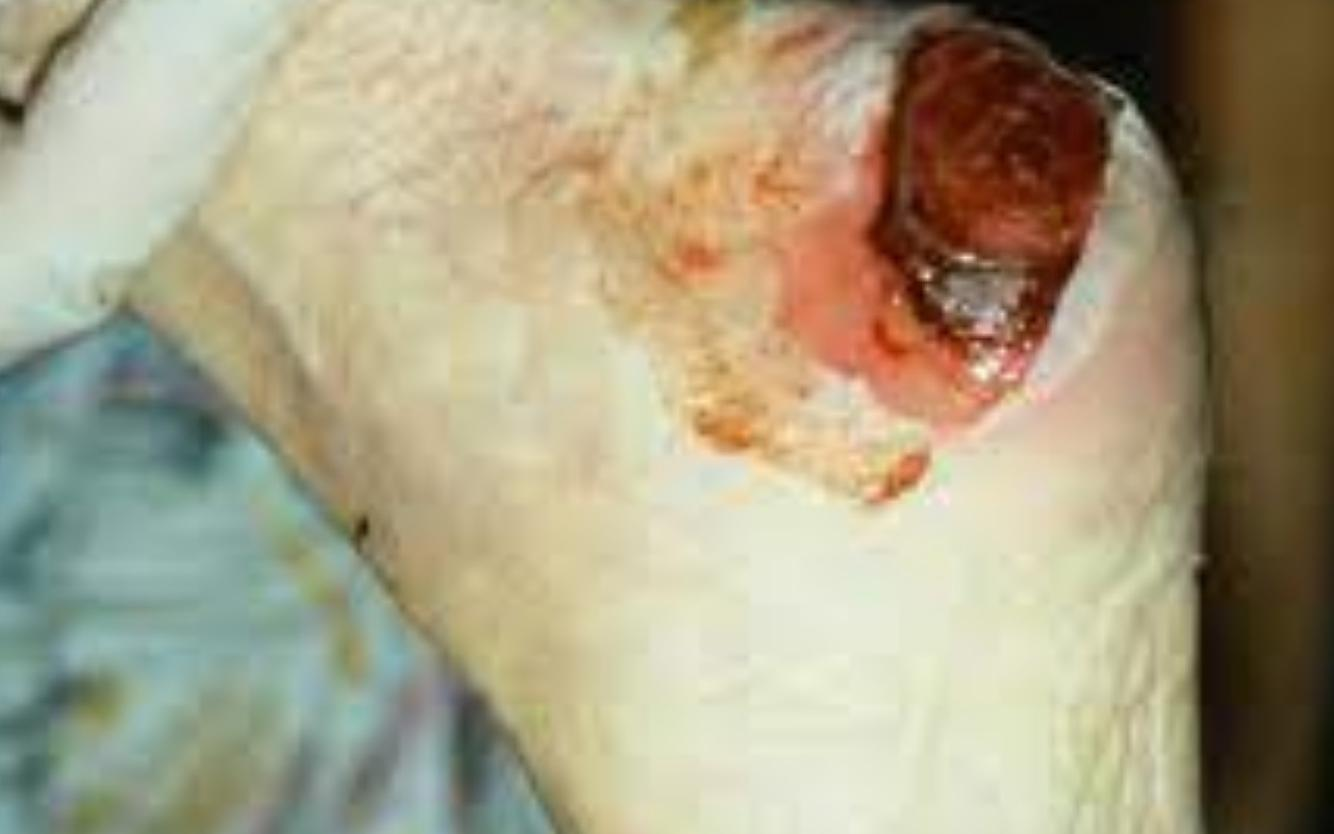Stage2: (749, 0, 1162, 446)
